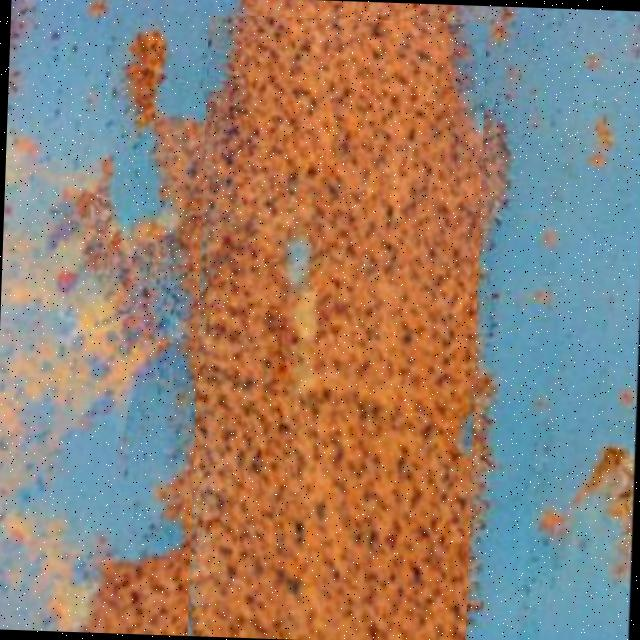Corrosion: (53, 0, 515, 640)
